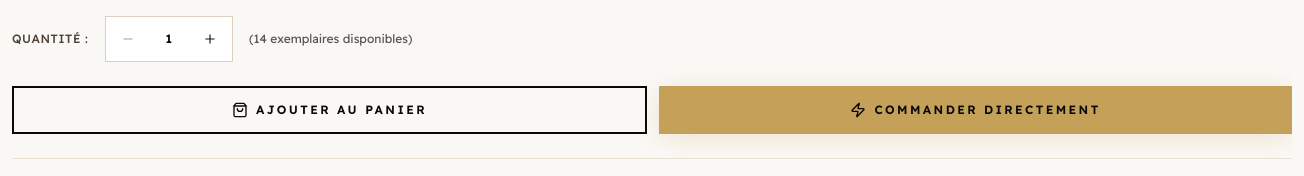
Scenario: CHALLENGER M2-1 — Adversarial Stress Test Suite (Milestone 2 Customer Storefront) › 3. Direct Checkout Bypass & State Isolation › accurately passes updated quantity to direct checkout payload and URL params
Later steps or results of the test are not shown.
Note: Increment quantity from 1 to 3
What coordinates should you click on to do the following:
click the button named "Augmenter la quantité"
I would click on:
 (210, 39)
Its box is [188, 17, 232, 61].
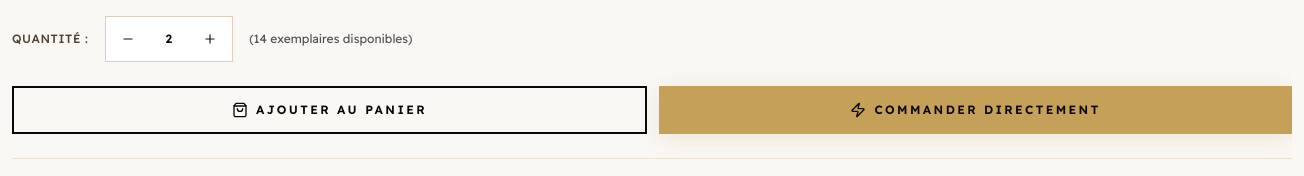
What coordinates should you click on to do the following:
click the button named "Augmenter la quantité"
I would click on:
 (210, 39)
Its box is [188, 17, 232, 61].
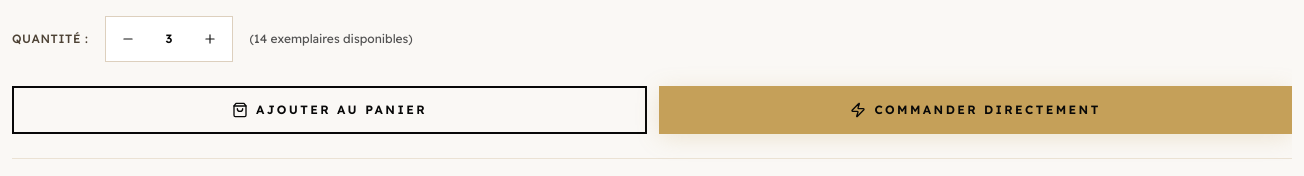
expect the text "3" is shown: met, box [166, 31, 172, 46]
